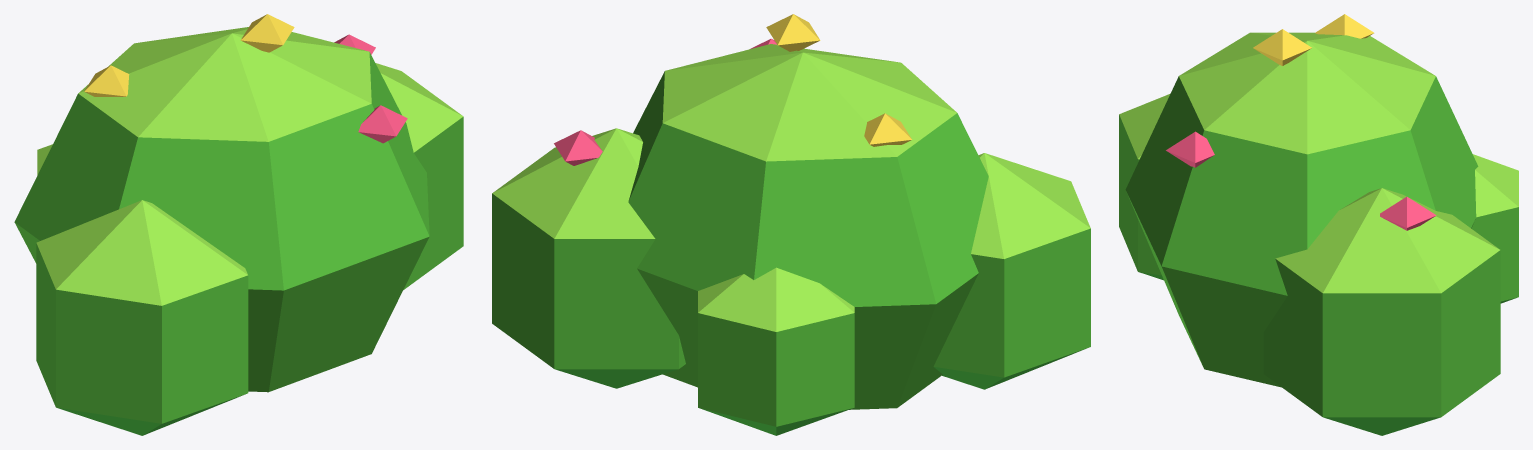
Rendered from bush.glb.
3 renders of one model, left to right at view 1: azimuth 30°, elevation 25°; view 2: azimuth 150°, elevation 25°; view 3: azimuth 270°, elevation 25°, orthographic. The views are drawn at different scales.
Visible parts, largest first — view 1: bush; view 2: bush; view 3: bush.
Part boxes in pixels (x1,y1,x2,y2): bush: [14, 14, 463, 435]; bush: [492, 14, 1090, 435]; bush: [1119, 14, 1518, 435].
Size of the model in its own units: 0.2874 by 0.22 by 0.2211.
